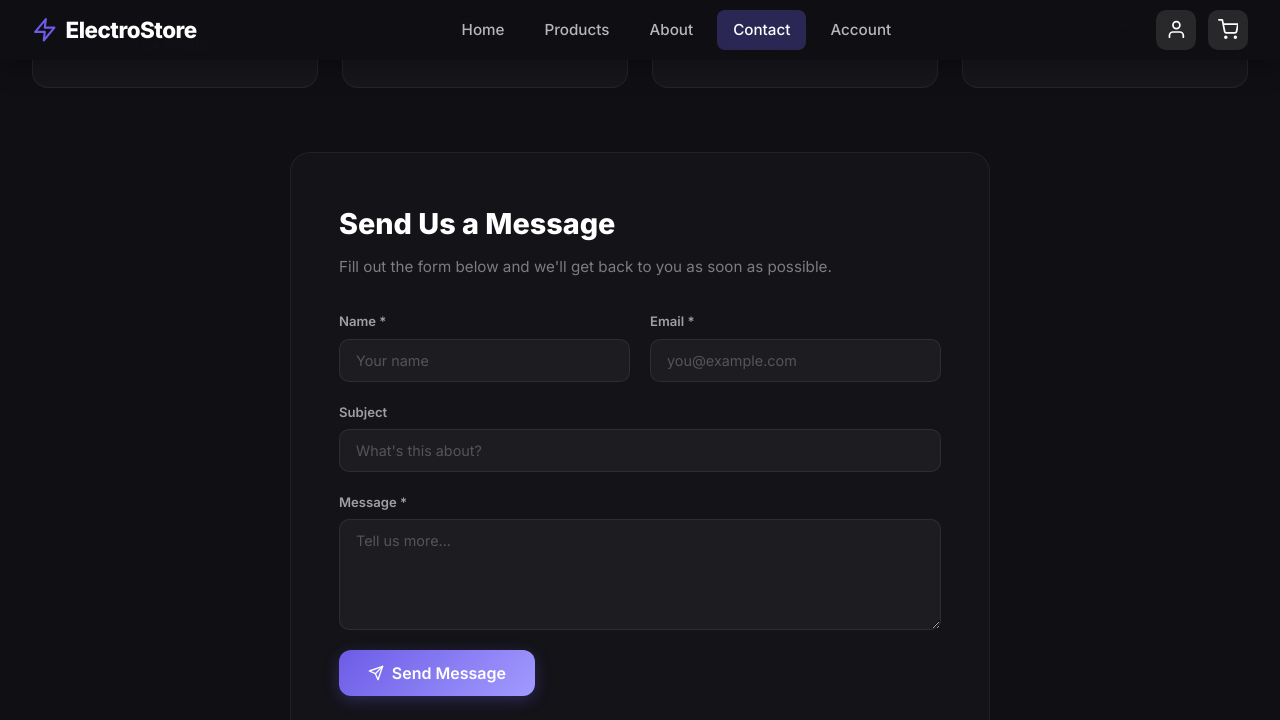
Test: Contact Page › should submit contact form successfully
The width and height of the screenshot is (1280, 720).
(page scrolled)
Type "Cypress Test User" into the field with id "name" at (485, 361), box [339, 339, 630, 382]
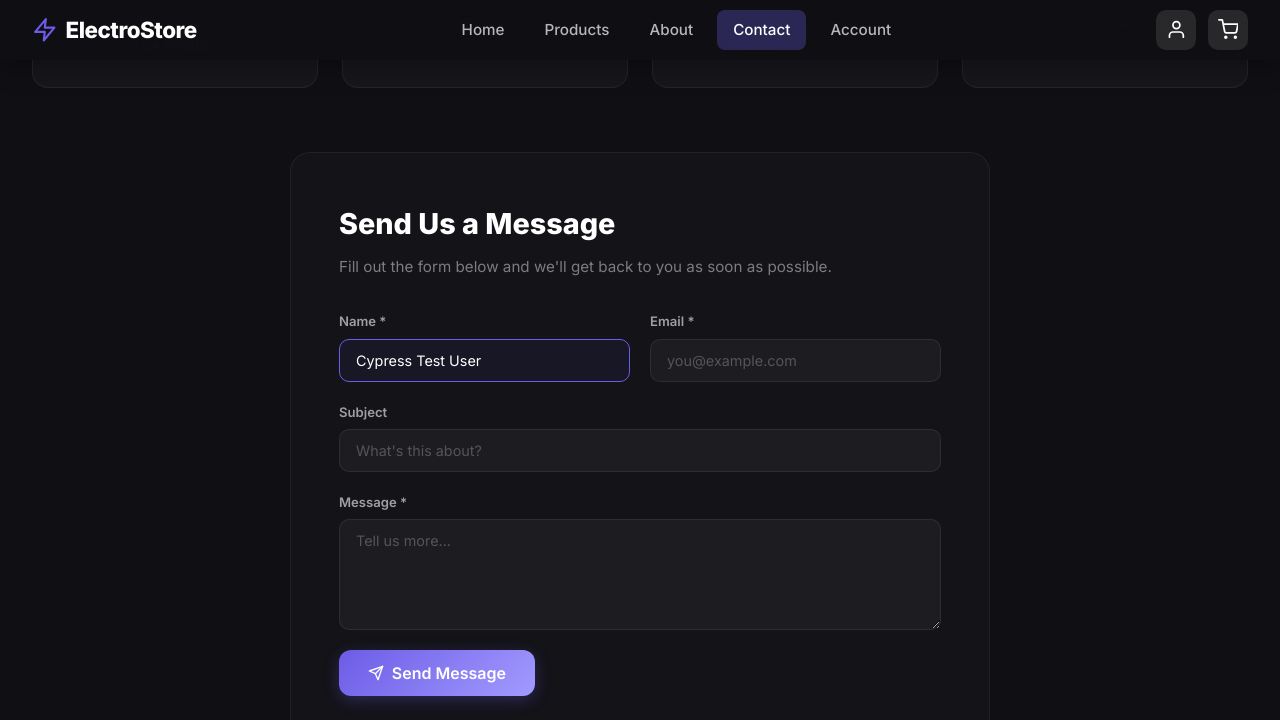
Type "cypress@test.com" into the field with id "email" at (796, 361), box [650, 339, 941, 382]
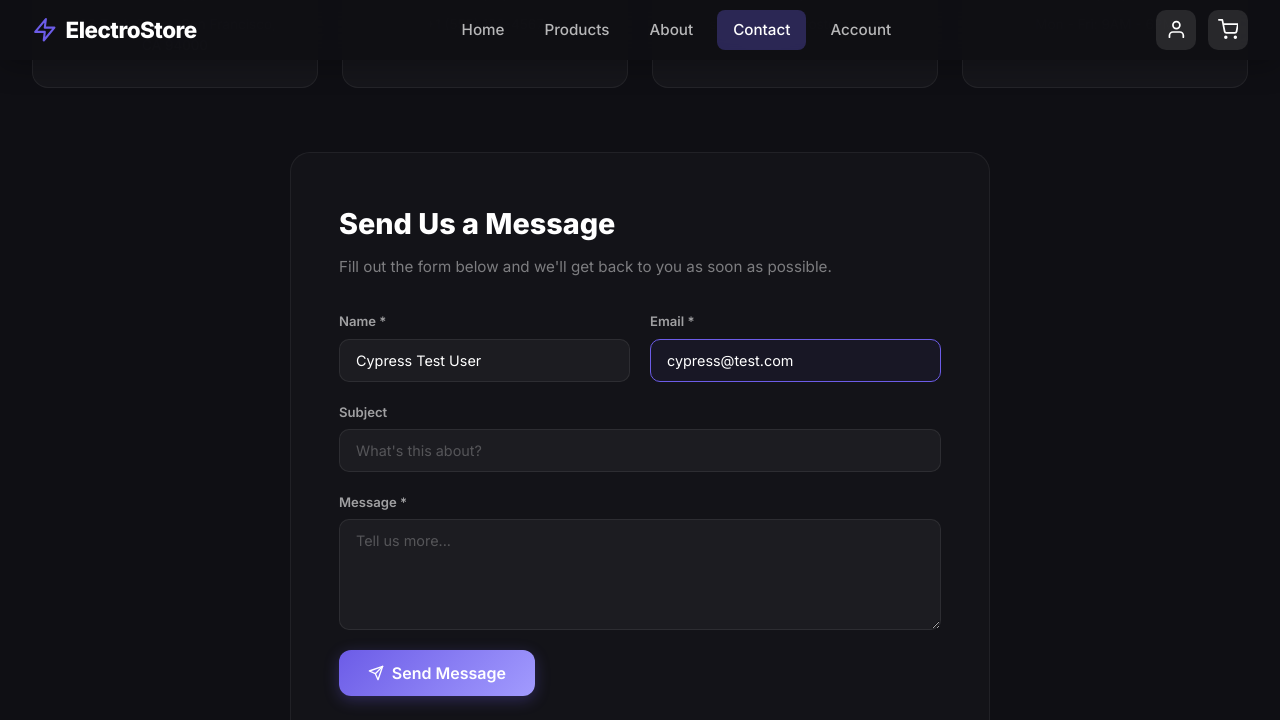
Type "Test Subject from Cypress" into the field with id "subject" at (640, 451), box [339, 429, 941, 472]
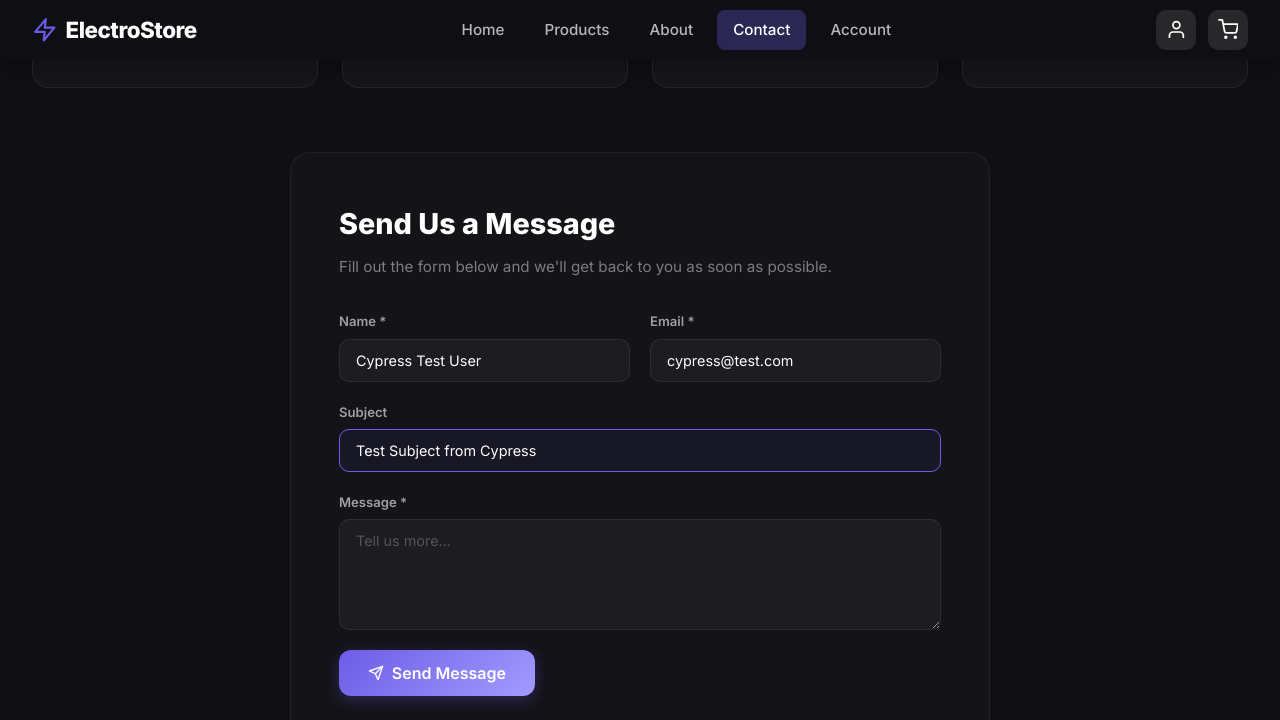
Type "This is an automated test message from Cypress E2E testing." into the text box with id "message" at (640, 576), box [339, 520, 941, 631]
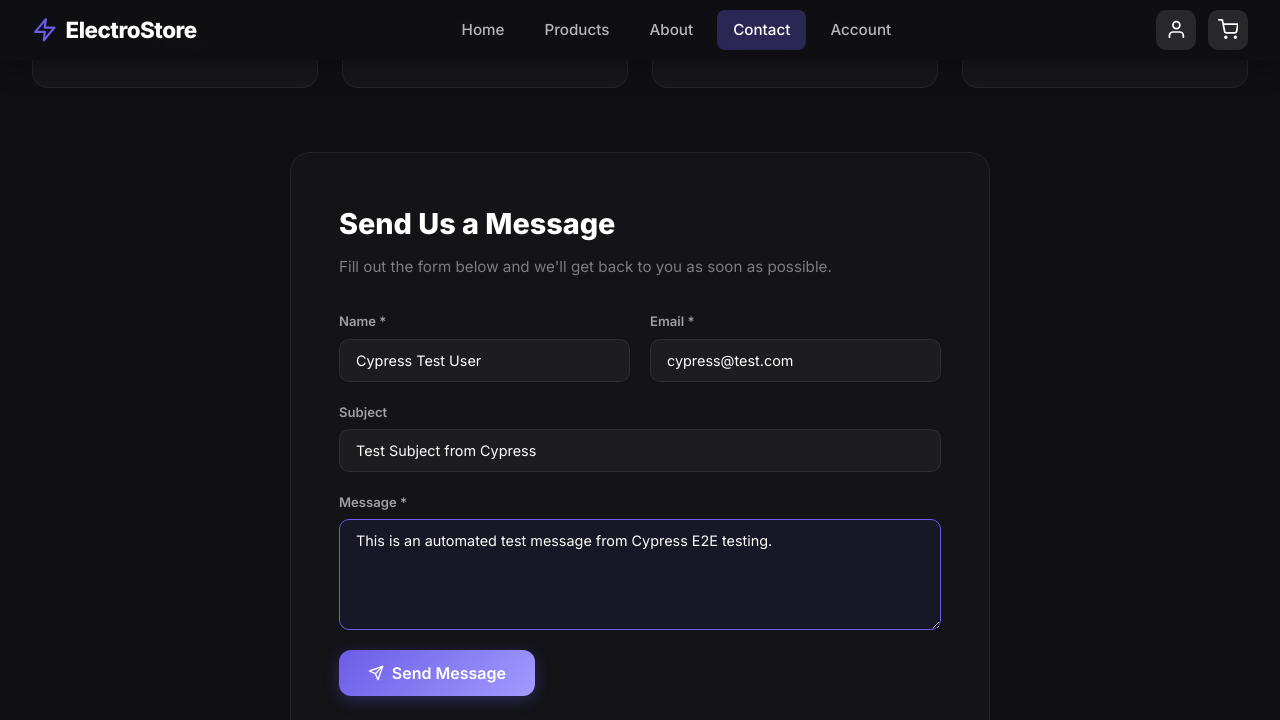
Click the submit button at (437, 674), box [339, 651, 535, 697]
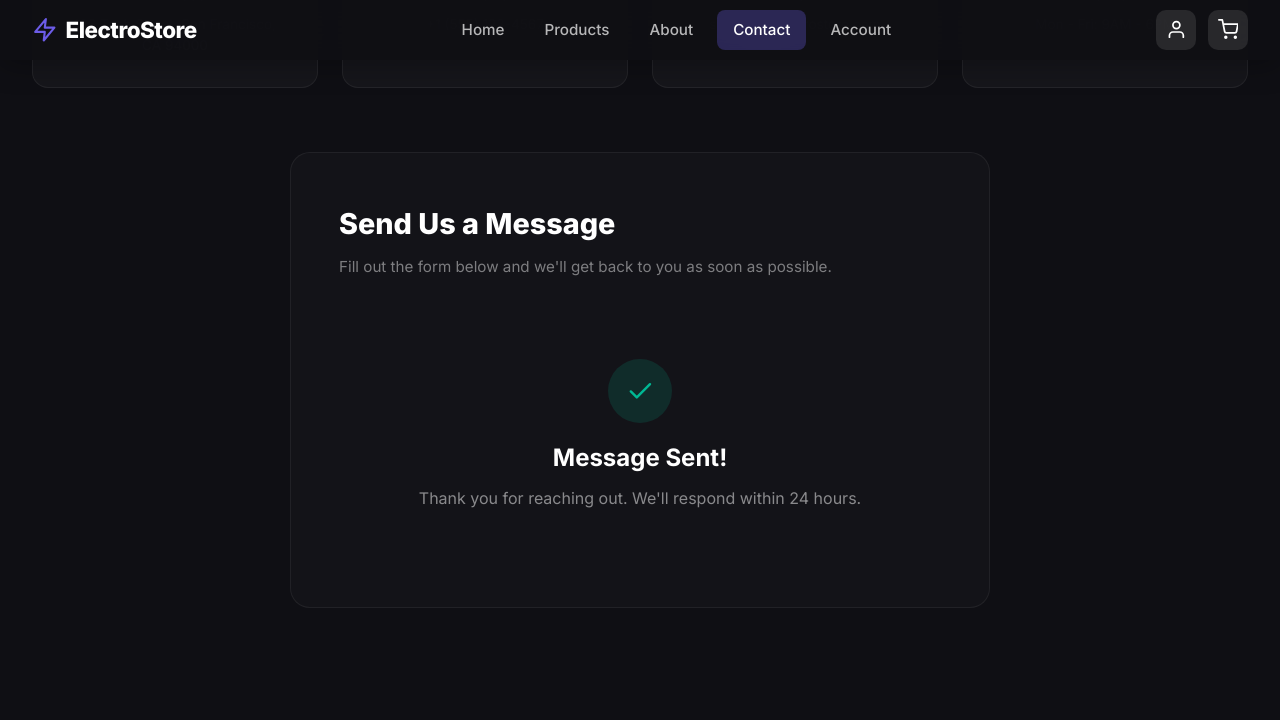
Now the heading "Message Sent!" is shown, box [553, 443, 727, 472]
